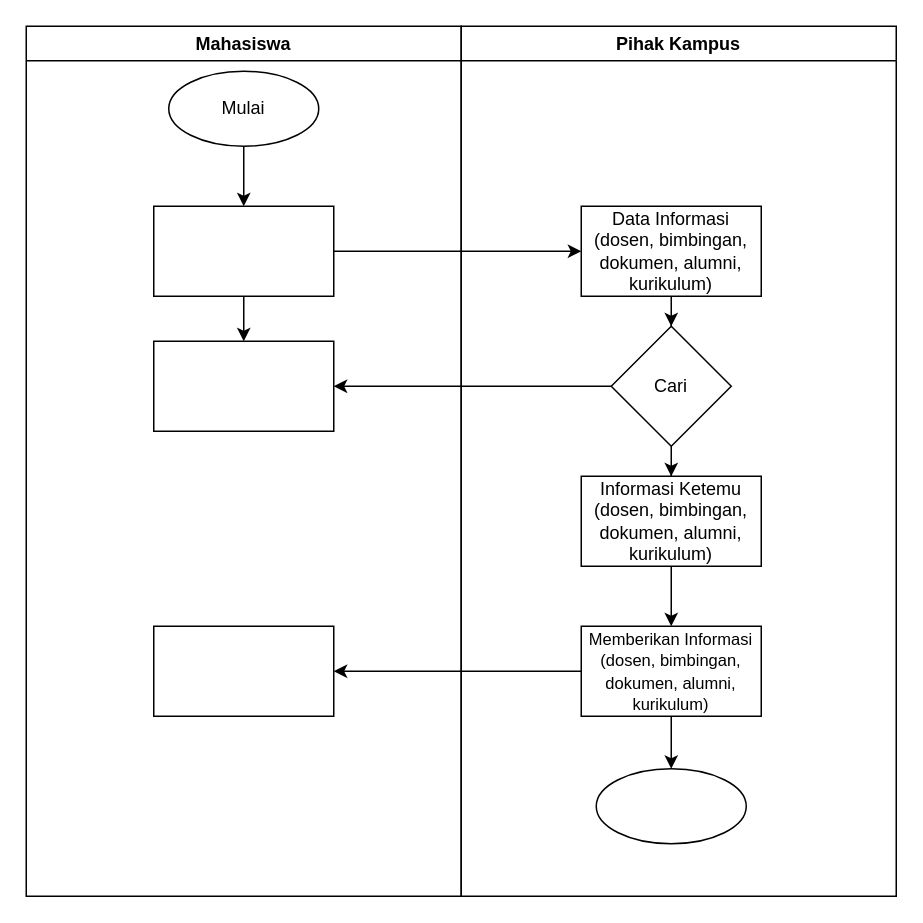
Image size: 923x923. Some labels were removed from this diagram. The shapes that lost their labels are listed below. From the top down, each one's centre as x and y in pixels, then its label:
At point (243, 250): "Kebutuhan Informasi (dosen, bimbingan, dokumen, alumni, kurikulum)".
At point (243, 385): "Kebutuhan Informasi ditunda".
At point (243, 670): "Menerima Informasi (dosen, bimbingan, dokumen, alumni, kurikulum)".
At point (670, 805): "Selesai".
